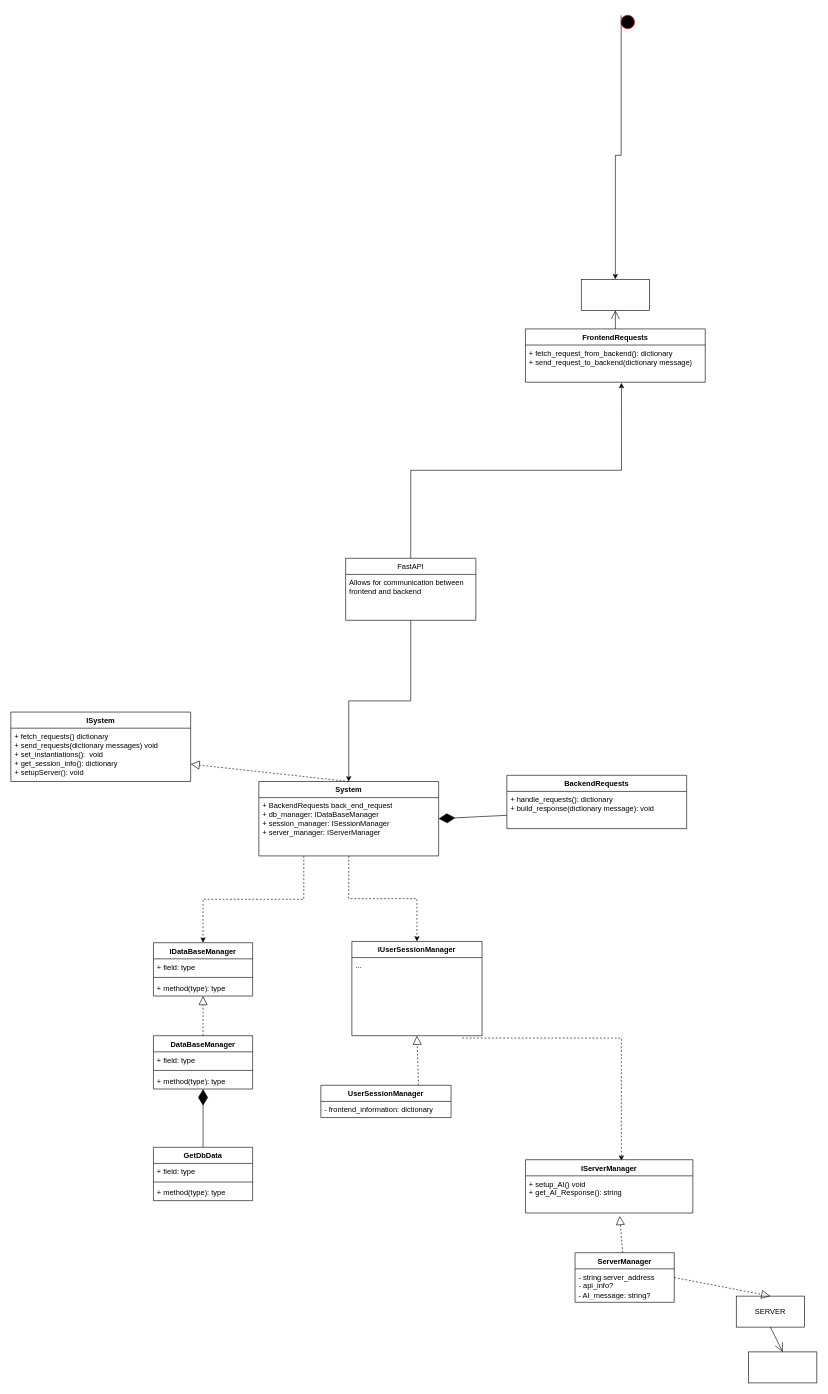
The diagram is 828 pixels wide and 1394 high, and some of its shapes have lost their labels. Here are the shapes that lost their labels. From the top down, the centre of each, then its label:
pixel 615 294: FrontEnd
pixel 782 1367: AI system (KEI)
